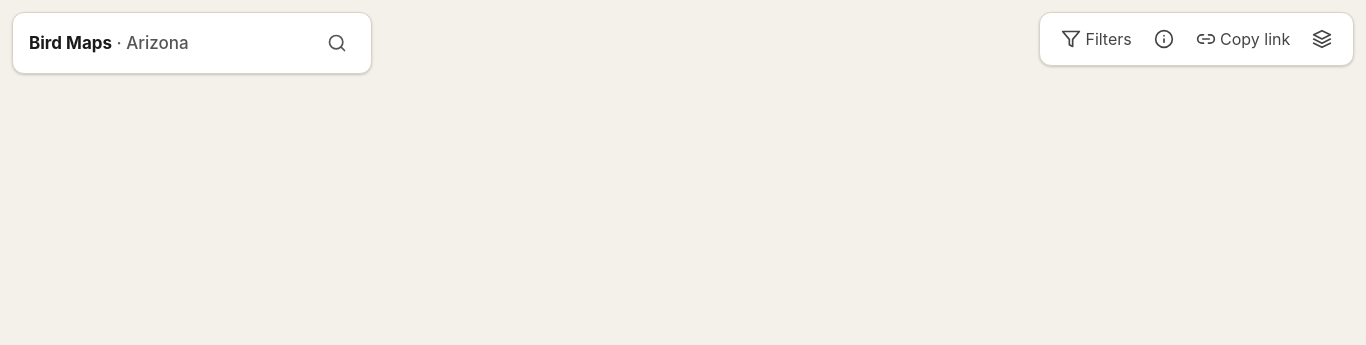
Test: <AppHeader> › clicking Filters closes an open theme popover (and an open scope disclosure)
Click the button named "Map theme:".
click(1322, 39)  # box [1303,21,1341,57]
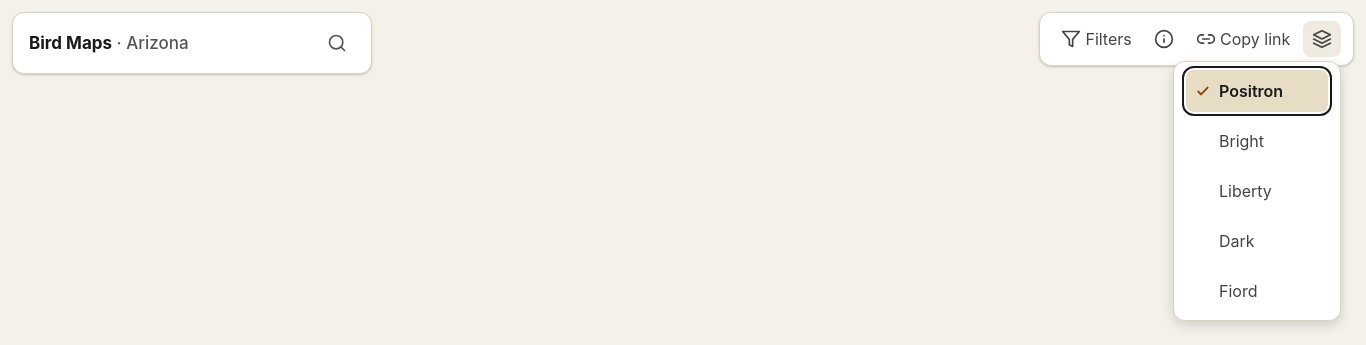
Expected: the button named "Map theme:" is expanded, [1303,21,1341,57]
Clicking the Filters trigger closes the theme popover (App opens the panel).
Click the button "Filters".
click(1097, 39)  # box [1052,21,1141,57]
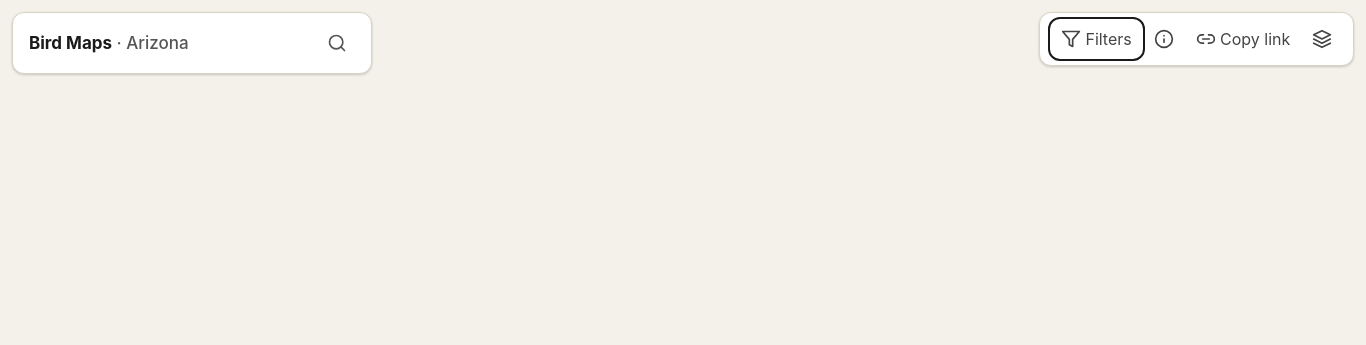
Expected: the button named "Map theme:" is collapsed, [1303,21,1341,57]
